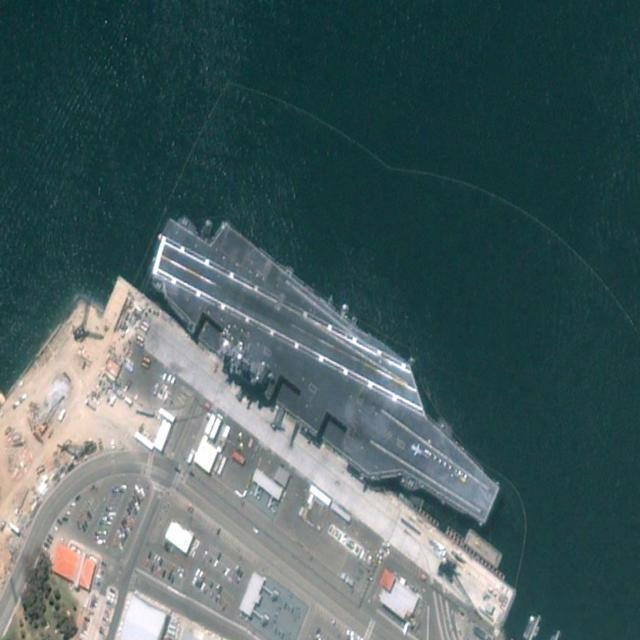Aircraft Carrier: (133, 185, 518, 559)
